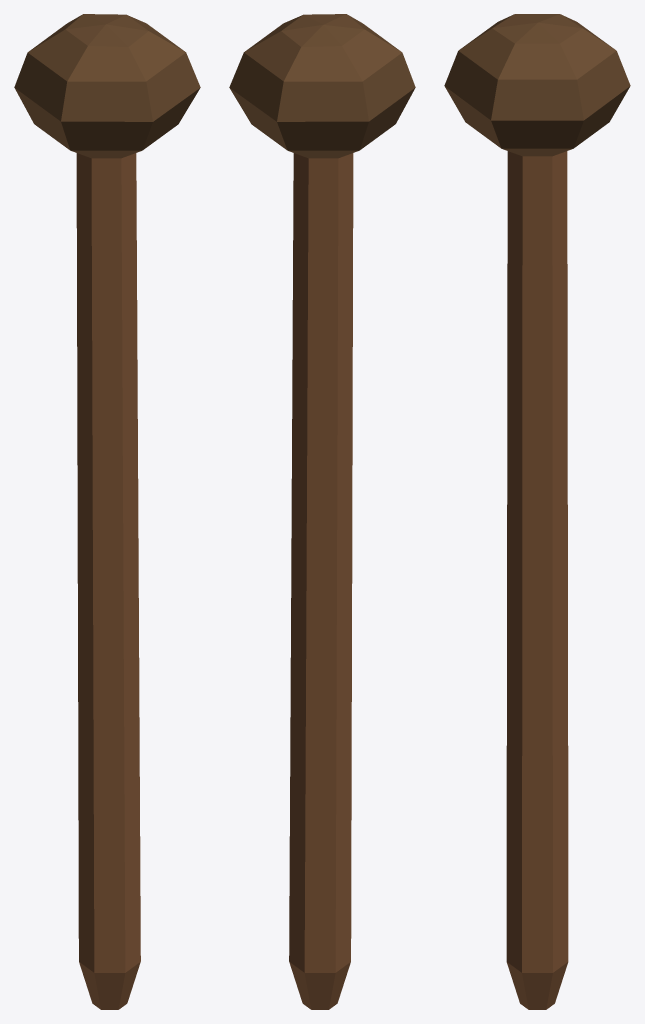
File: zulu-club-zulu.glb
The picture shows the model from 3 angles, left to right: view 1: azimuth 30°, elevation 25°; view 2: azimuth 150°, elevation 25°; view 3: azimuth 270°, elevation 25°; orthographic projection.
Visible parts, largest first — view 1: club-zulu; view 2: club-zulu; view 3: club-zulu.
Part boxes in pixels (x1=…): club-zulu: x1=14, y1=14, x2=200, y2=1009; club-zulu: x1=229, y1=14, x2=415, y2=1009; club-zulu: x1=444, y1=14, x2=630, y2=1009.
Size of the model in its own units: 0.0832 by 0.5574 by 0.0961.
